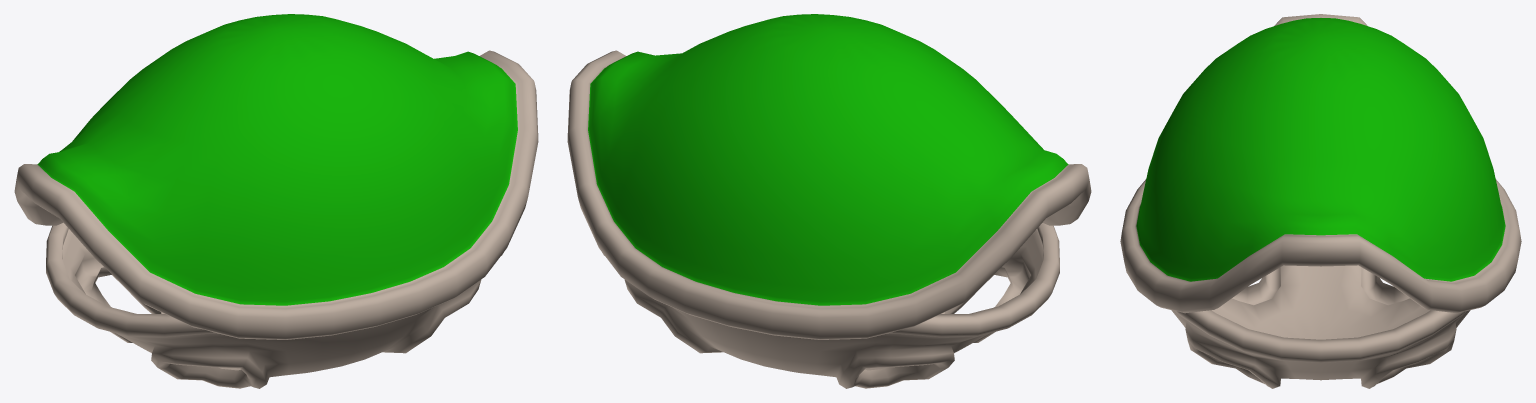
The model's file is shell_v7.glb.
3 renders of one model, left to right at view 1: azimuth 30°, elevation 25°; view 2: azimuth 150°, elevation 25°; view 3: azimuth 270°, elevation 25°, orthographic. The views are drawn at different scales.
Visible parts, largest first — view 1: Skal, SkalUnder; view 2: Skal, SkalUnder; view 3: Skal, SkalUnder.
Boxes of the visible parts, left/top/right/bottom form: Skal: left=14, top=14, right=538, bottom=339; SkalUnder: left=46, top=222, right=503, bottom=388; Skal: left=567, top=14, right=1091, bottom=339; SkalUnder: left=602, top=222, right=1059, bottom=388; Skal: left=1120, top=14, right=1521, bottom=313; SkalUnder: left=1171, top=265, right=1470, bottom=388.
Size of the model in its own units: 1.2 by 0.7653 by 0.8833.
Materials: 2 (1 with a texture image).
